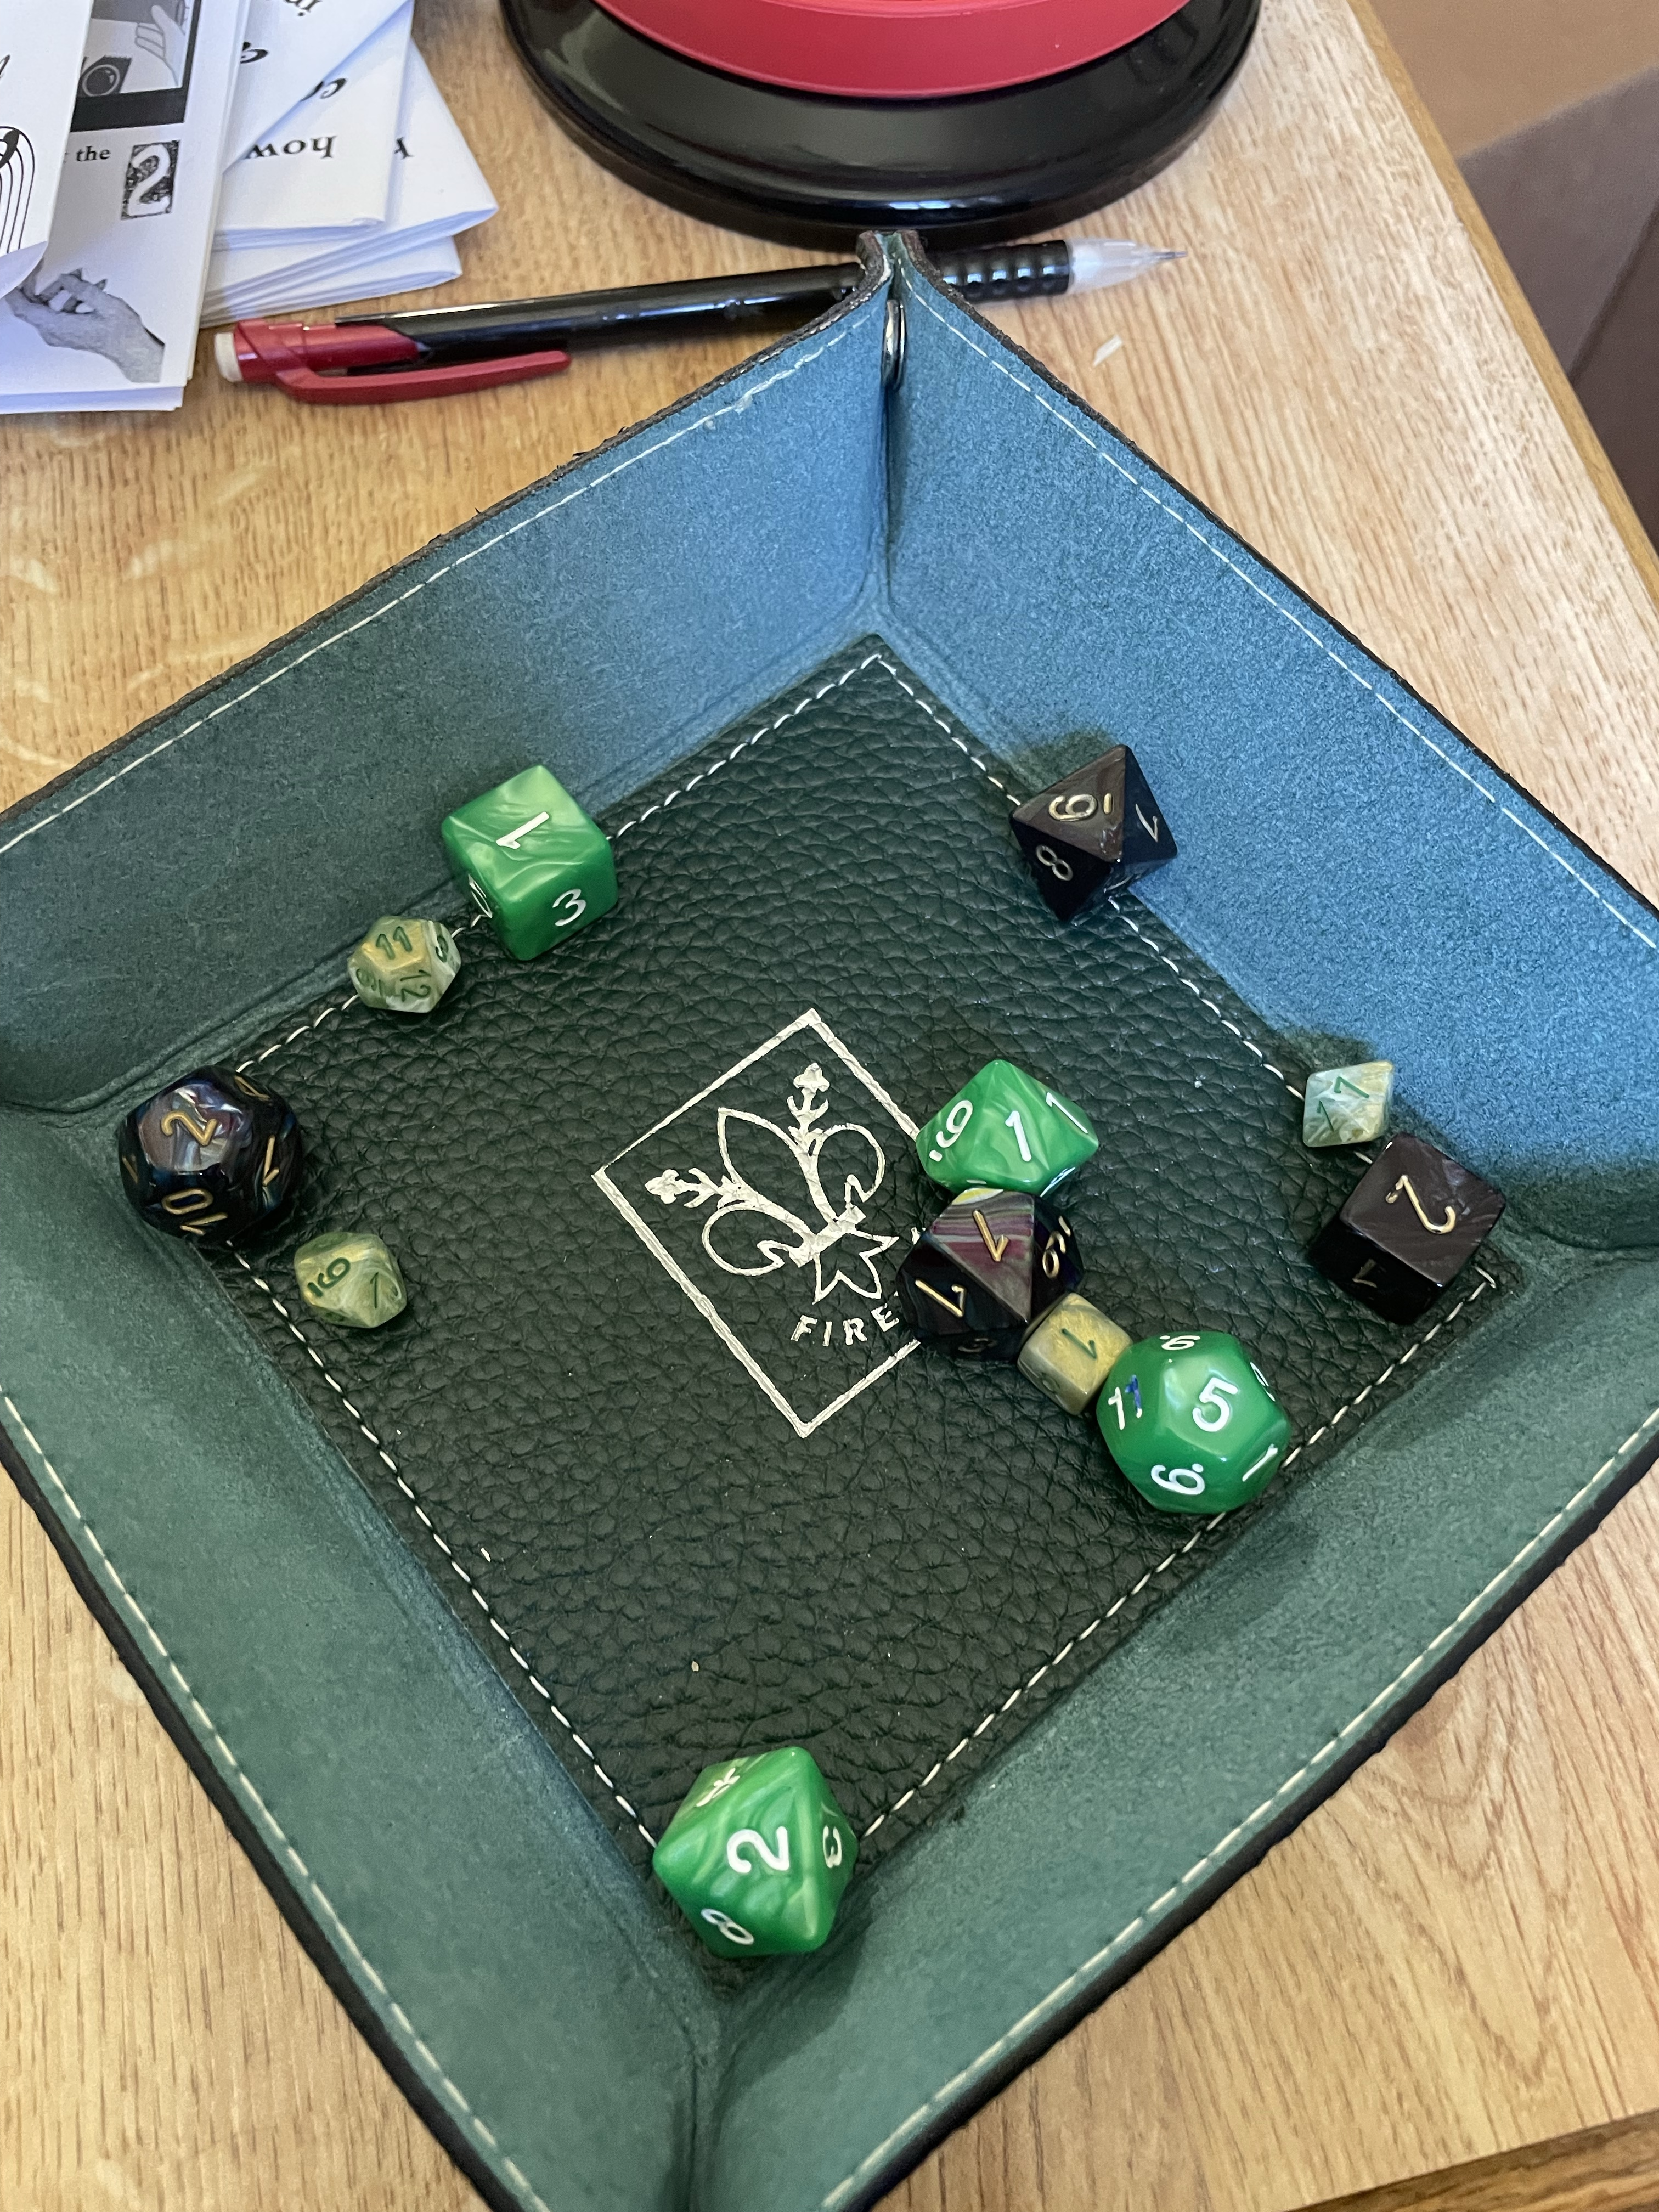eleven: (336, 887, 483, 1021)
five: (1093, 1294, 1328, 1561)
nine: (277, 1211, 425, 1352)
one: (418, 745, 647, 986), (894, 1043, 1124, 1212), (880, 1181, 1080, 1357), (997, 1287, 1145, 1420)
seven: (1277, 1031, 1412, 1160)
six: (965, 723, 1227, 927)
two: (626, 1710, 913, 2024), (84, 1033, 329, 1252), (1312, 1130, 1530, 1341)
